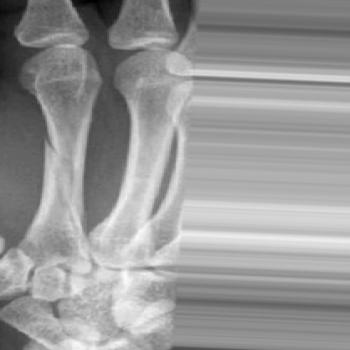Fracture: (36, 132, 94, 182)
